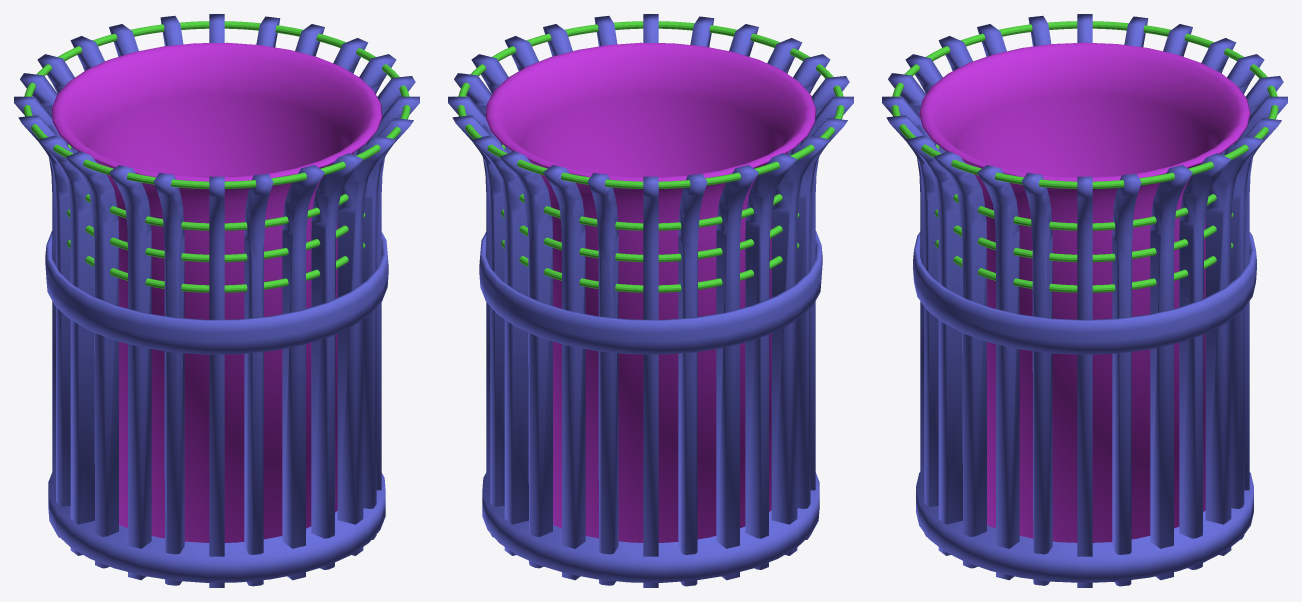
Rendered from trashbin.fbx.
3 views of the same model, side by side, from view 1: azimuth 30°, elevation 25°; view 2: azimuth 150°, elevation 25°; view 3: azimuth 270°, elevation 25° (orthographic).
Parts seen in each view (by area): view 1: Cube; view 2: Cube; view 3: Cube.
Boxes of the visible parts, bbox=[...] form: Cube: bbox=[14, 14, 419, 587]; Cube: bbox=[448, 14, 853, 587]; Cube: bbox=[882, 14, 1287, 587].
Bounding box in the file's own units: 78.41 × 89.23 × 78.41.
